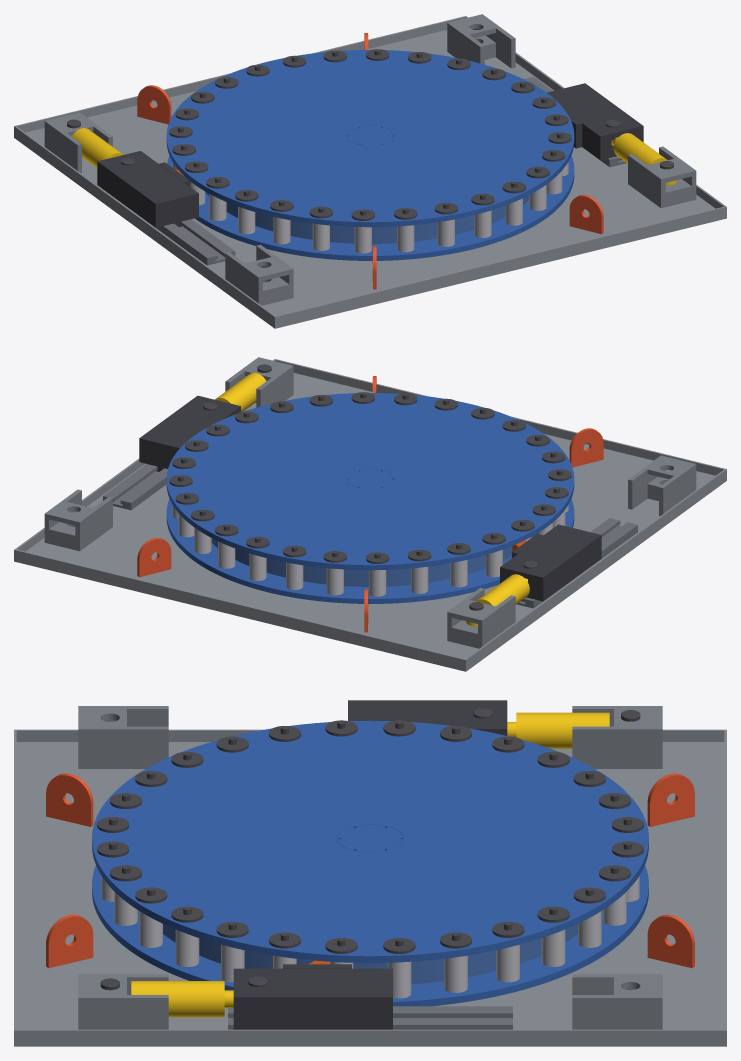
3 renders of one model, top to bottom at view 1: azimuth 30°, elevation 25°; view 2: azimuth 150°, elevation 25°; view 3: azimuth 270°, elevation 25°, orthographic. The views are drawn at different scales.
Visible parts, largest first — view 1: TT300C-MES-001-C Plancha superior de la mesa, TT300C-BAS-001-C Plancha base, TT300C-MES-002-C Anillo superior de pasadores, TT300C-ACC-003-C PatÃn guiado, TT300C-BAS-003-C Marco perimetral largo, TT300C-MES-013-C Perno ISO 4762 M20Ã45 con arandela, TT300C-BAS-005-C Mejilla de mÃ©nsula, TT300C-MES-004-C Anillo inferior de pasadores, TT300C-MES-012-C Pasador de empuje, TT300C-BAS-004-C Marco perimetral corto, TT300C-MES-007-C Alma anular R840, TT300C-IZA-001-C Oreja de izaje (+5 smaller); view 2: TT300C-MES-001-C Plancha superior de la mesa, TT300C-BAS-001-C Plancha base, TT300C-MES-002-C Anillo superior de pasadores, TT300C-ACC-003-C PatÃn guiado, TT300C-BAS-003-C Marco perimetral largo, TT300C-MES-013-C Perno ISO 4762 M20Ã45 con arandela, TT300C-BAS-005-C Mejilla de mÃ©nsula, TT300C-MES-004-C Anillo inferior de pasadores, TT300C-MES-012-C Pasador de empuje, TT300C-BAS-004-C Marco perimetral corto, TT300C-ACC-001-C Bancada de guÃa con ranura T, TT300C-MES-007-C Alma anular R840 (+5 smaller); view 3: TT300C-MES-001-C Plancha superior de la mesa, TT300C-BAS-001-C Plancha base, TT300C-MES-002-C Anillo superior de pasadores, TT300C-BAS-005-C Mejilla de mÃ©nsula, TT300C-ACC-003-C PatÃn guiado, TT300C-MES-013-C Perno ISO 4762 M20Ã45 con arandela, TT300C-BAS-004-C Marco perimetral corto, TT300C-MES-004-C Anillo inferior de pasadores, TT300C-IZA-001-C Oreja de izaje, TT300C-MES-012-C Pasador de empuje, TT300C-ACC-002-C Cilindro hidrÃ¡ulico doble efecto, TT300C-MES-007-C Alma anular R840 (+4 smaller).
Boxes of the visible parts, x1=… form: TT300C-MES-001-C Plancha superior de la mesa: x1=195, y1=62, x2=545, y2=209; TT300C-BAS-001-C Plancha base: x1=14, y1=30, x2=726, y2=328; TT300C-MES-002-C Anillo superior de pasadores: x1=166, y1=50, x2=574, y2=227; TT300C-ACC-003-C PatÃn guiado: x1=97, y1=83, x2=643, y2=227; TT300C-BAS-003-C Marco perimetral largo: x1=14, y1=16, x2=726, y2=325; TT300C-MES-013-C Perno ISO 4762 M20Ã45 con arandela: x1=169, y1=49, x2=571, y2=220; TT300C-BAS-005-C Mejilla de mÃ©nsula: x1=44, y1=14, x2=696, y2=305; TT300C-MES-004-C Anillo inferior de pasadores: x1=167, y1=156, x2=574, y2=260; TT300C-MES-012-C Pasador de empuje: x1=172, y1=162, x2=568, y2=253; TT300C-BAS-004-C Marco perimetral corto: x1=15, y1=16, x2=725, y2=324; TT300C-MES-007-C Alma anular R840: x1=205, y1=192, x2=529, y2=243; TT300C-IZA-001-C Oreja de izaje: x1=137, y1=33, x2=603, y2=289; TT300C-MES-001-C Plancha superior de la mesa: x1=195, y1=405, x2=545, y2=552; TT300C-BAS-001-C Plancha base: x1=14, y1=373, x2=726, y2=671; TT300C-MES-002-C Anillo superior de pasadores: x1=166, y1=393, x2=574, y2=570; TT300C-ACC-003-C PatÃn guiado: x1=139, y1=395, x2=601, y2=601; TT300C-BAS-003-C Marco perimetral largo: x1=14, y1=359, x2=726, y2=668; TT300C-MES-013-C Perno ISO 4762 M20Ã45 con arandela: x1=169, y1=392, x2=571, y2=563; TT300C-BAS-005-C Mejilla de mÃ©nsula: x1=44, y1=357, x2=696, y2=648; TT300C-MES-004-C Anillo inferior de pasadores: x1=166, y1=499, x2=574, y2=603; TT300C-MES-012-C Pasador de empuje: x1=172, y1=505, x2=568, y2=596; TT300C-BAS-004-C Marco perimetral corto: x1=15, y1=359, x2=725, y2=667; TT300C-ACC-001-C Bancada de guÃa con ranura T: x1=103, y1=464, x2=637, y2=608; TT300C-MES-007-C Alma anular R840: x1=211, y1=535, x2=534, y2=586; TT300C-MES-001-C Plancha superior de la mesa: x1=131, y1=737, x2=609, y2=939; TT300C-BAS-001-C Plancha base: x1=14, y1=742, x2=726, y2=1046; TT300C-MES-002-C Anillo superior de pasadores: x1=92, y1=720, x2=648, y2=962; TT300C-BAS-005-C Mejilla de mÃ©nsula: x1=78, y1=706, x2=662, y2=1029; TT300C-ACC-003-C PatÃn guiado: x1=233, y1=700, x2=507, y2=1029; TT300C-MES-013-C Perno ISO 4762 M20Ã45 con arandela: x1=97, y1=720, x2=643, y2=953; TT300C-BAS-004-C Marco perimetral corto: x1=16, y1=729, x2=724, y2=1042; TT300C-MES-004-C Anillo inferior de pasadores: x1=92, y1=865, x2=648, y2=1006; TT300C-IZA-001-C Oreja de izaje: x1=46, y1=773, x2=694, y2=968; TT300C-MES-012-C Pasador de empuje: x1=101, y1=876, x2=639, y2=998; TT300C-ACC-002-C Cilindro hidrÃ¡ulico doble efecto: x1=131, y1=712, x2=609, y2=1017; TT300C-MES-007-C Alma anular R840: x1=163, y1=924, x2=577, y2=984.
Size of the model in its own units: 2560 by 258 by 2560.
